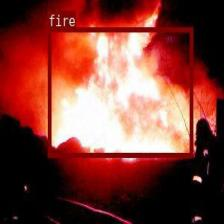fire: (47, 27, 192, 156)
